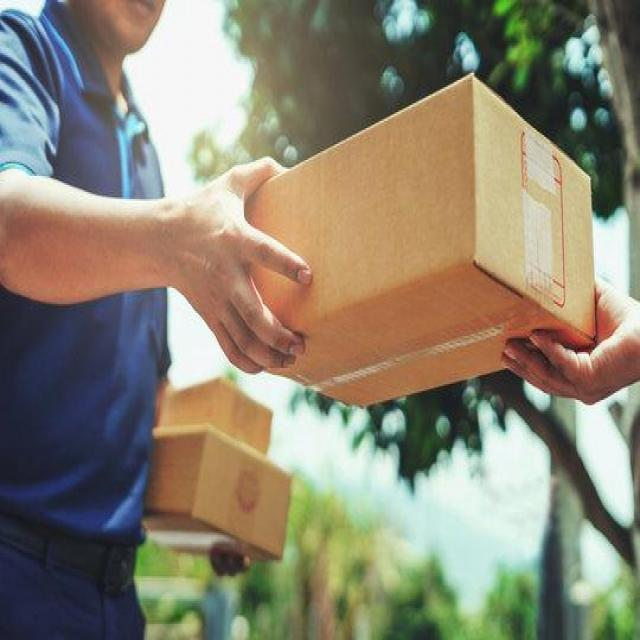box: (241, 65, 603, 416), (143, 426, 294, 566), (153, 374, 278, 462)
